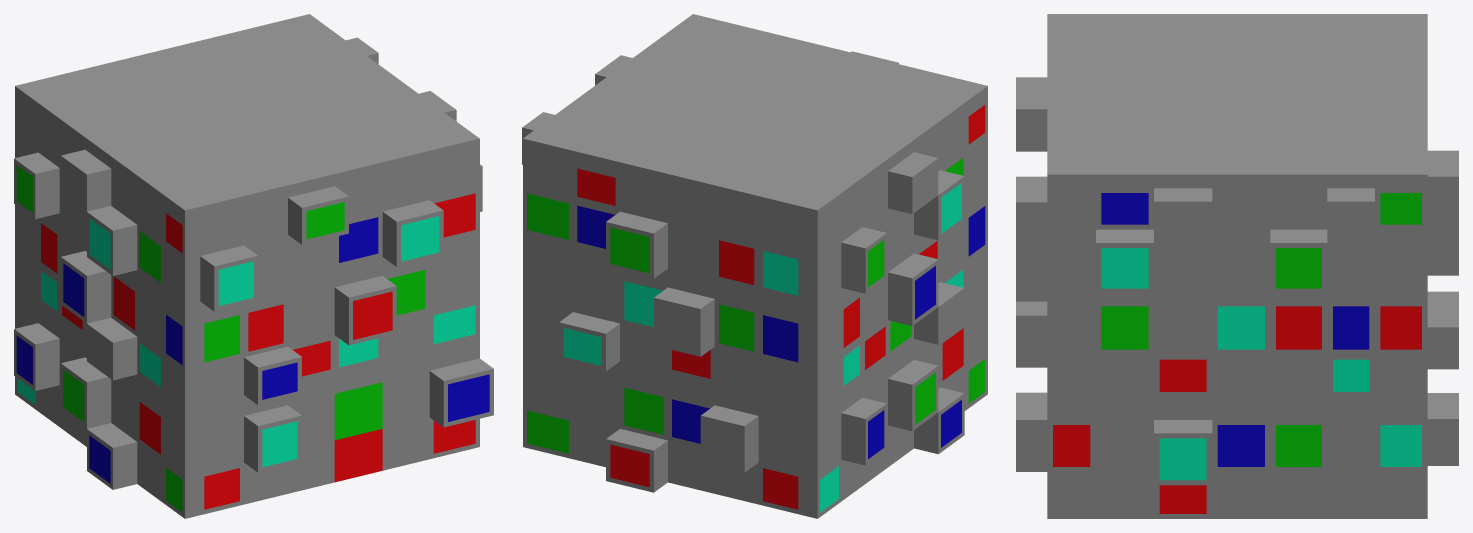
File: MOD_BatE.FBX
The picture shows the model from 3 angles, left to right: view 1: azimuth 30°, elevation 25°; view 2: azimuth 150°, elevation 25°; view 3: azimuth 270°, elevation 25°; orthographic projection. The views are drawn at different scales.
Parts seen in each view (by area): view 1: Building C; view 2: Building C; view 3: Building C.
Boxes of the visible parts, x1,y1,x2,y2 form: Building C: (14,14,493,518); Building C: (522,14,987,518); Building C: (1016,14,1458,518).
Bounding box in the file's own units: 34.96 × 30 × 34.96.
